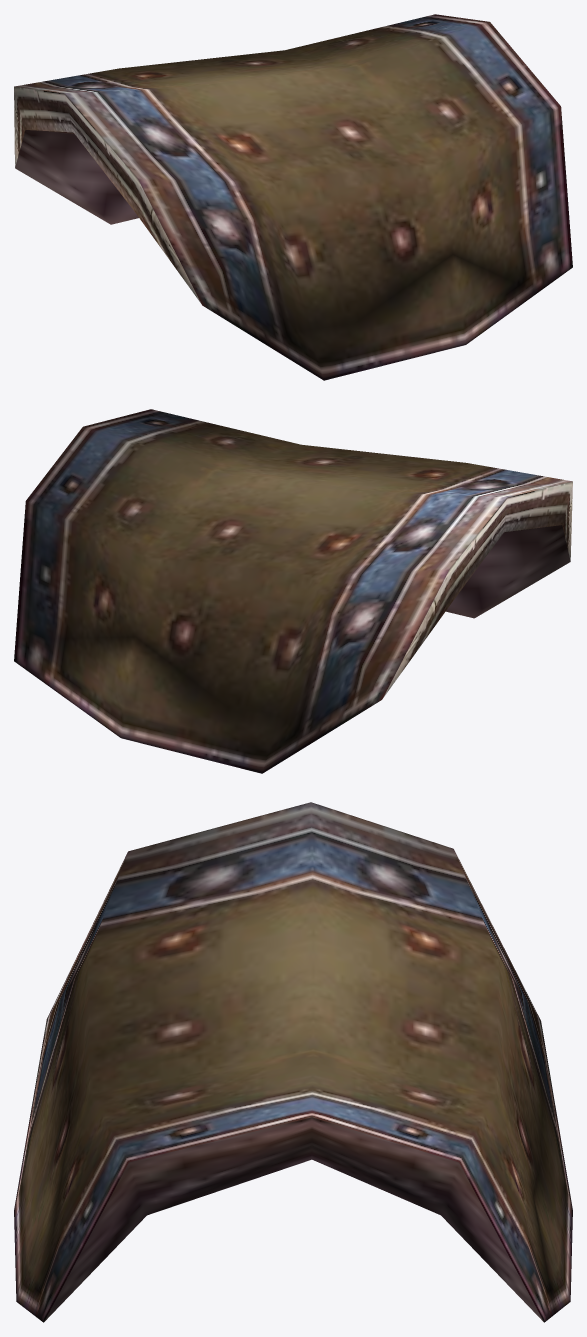
File: light_01_sa.glb
3 renders of one model, top to bottom at view 1: azimuth 30°, elevation 25°; view 2: azimuth 150°, elevation 25°; view 3: azimuth 270°, elevation 25°, orthographic. The views are drawn at different scales.
Visible parts, largest first — view 1: Light_01_sa; view 2: Light_01_sa; view 3: Light_01_sa.
Part boxes in pixels (left/top/right/bottom): Light_01_sa: left=14, top=14, right=572, bottom=380; Light_01_sa: left=14, top=409, right=572, bottom=773; Light_01_sa: left=14, top=802, right=572, bottom=1322.
Size of the model in its own units: 0.1571 by 0.084 by 0.1352.
Materials: 1 (1 with a texture image).
